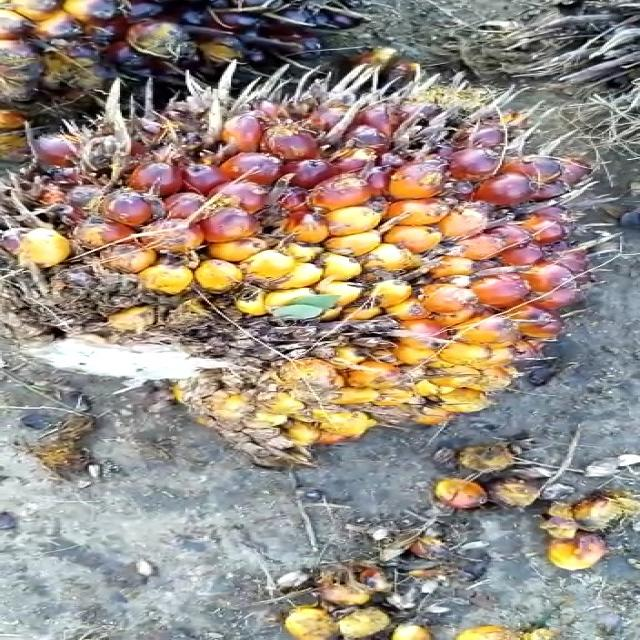palm oil: (0, 76, 616, 457)
